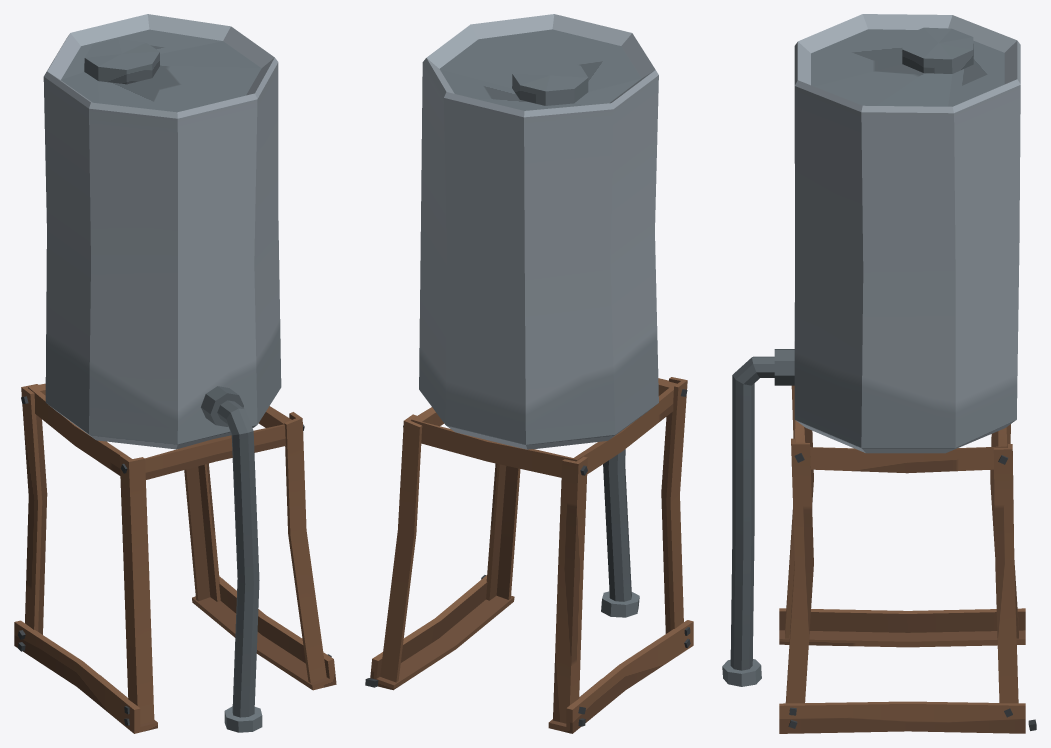
The model's file is SM_Prop_WaterTank_03.fbx.
3 renders of one model, left to right at view 1: azimuth 30°, elevation 25°; view 2: azimuth 150°, elevation 25°; view 3: azimuth 270°, elevation 25°, orthographic. The views are drawn at different scales.
Parts seen in each view (by area): view 1: SM_Prop_WaterTank_03; view 2: SM_Prop_WaterTank_03; view 3: SM_Prop_WaterTank_03.
Boxes of the visible parts, x1,y1,x2,y2 form: SM_Prop_WaterTank_03: (14, 14, 336, 733); SM_Prop_WaterTank_03: (365, 14, 693, 733); SM_Prop_WaterTank_03: (722, 14, 1036, 733).
Bounding box in the file's own units: 161 × 444 × 204.
